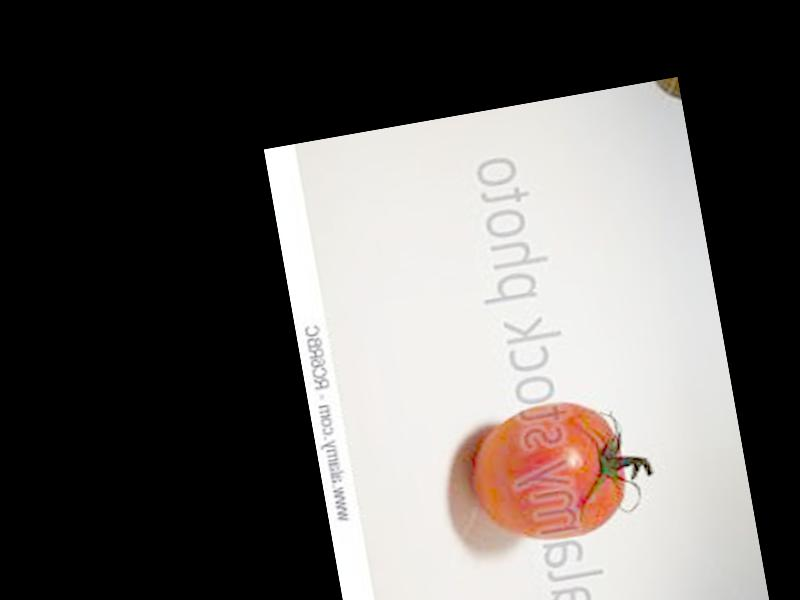Tomato: (464, 391, 636, 552)
